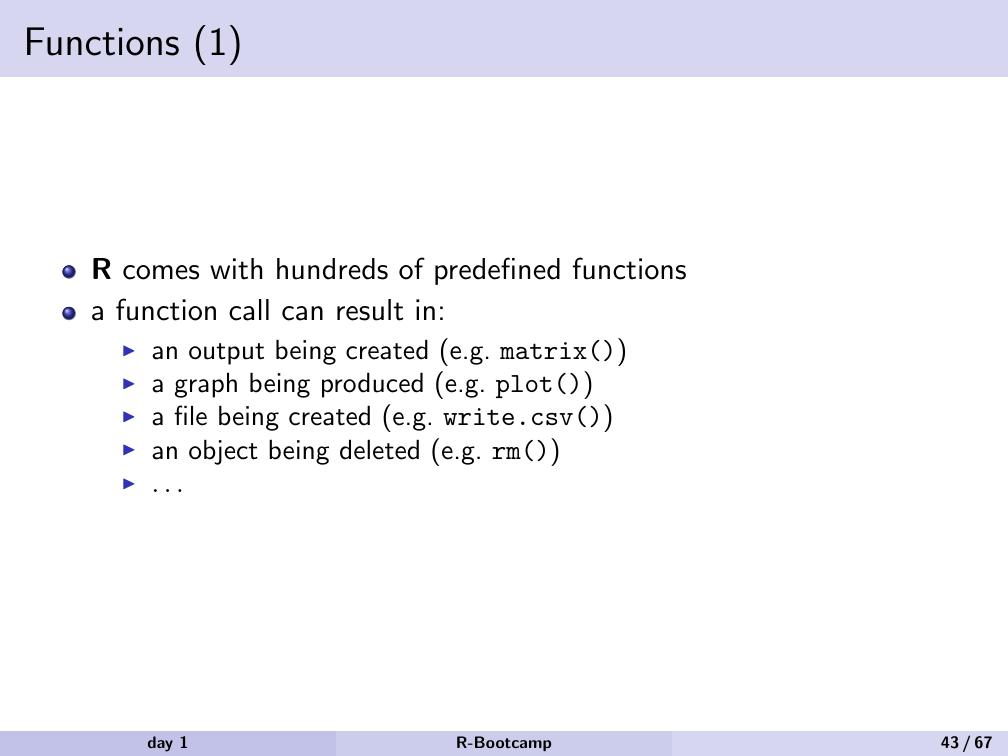Title: (20, 18, 249, 74)
